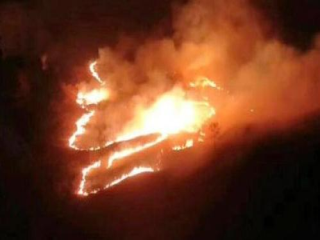fire: (67, 50, 208, 189)
smoke: (187, 12, 316, 150)
